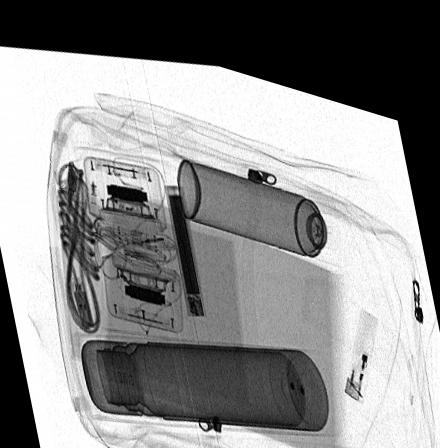Lighter: (341, 285, 378, 381)
Powerbank: (162, 175, 205, 305)
Sprayer: (175, 147, 355, 248)
